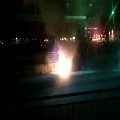fire: (55, 53, 71, 78)
